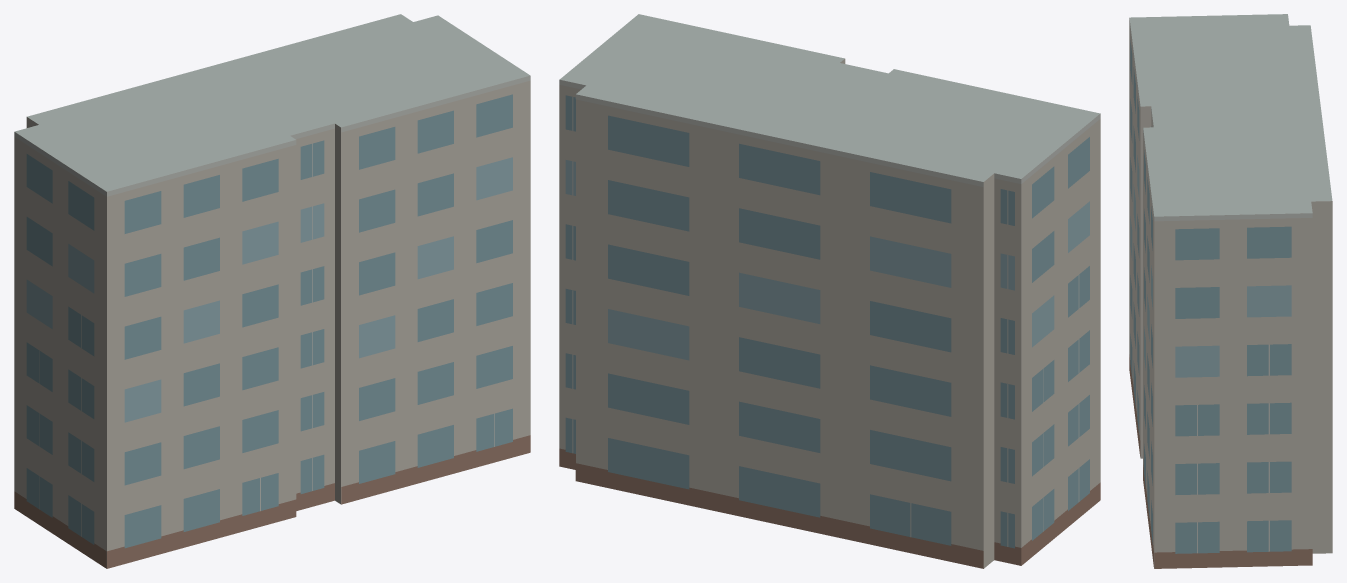
File: survey-upis-32728916.glb
The picture shows the model from 3 angles, left to right: view 1: azimuth 30°, elevation 25°; view 2: azimuth 150°, elevation 25°; view 3: azimuth 270°, elevation 25°; orthographic projection. The views are drawn at different scales.
Parts seen in each view (by area): view 1: survey-upis-32728916.tmp; view 2: survey-upis-32728916.tmp; view 3: survey-upis-32728916.tmp.
Boxes of the visible parts, <box> form: survey-upis-32728916.tmp: <box>14,14,530,568</box>; survey-upis-32728916.tmp: <box>559,14,1100,568</box>; survey-upis-32728916.tmp: <box>1129,14,1332,568</box>.
Size of the model in its own units: 22.59 by 18.3 by 9.57.
